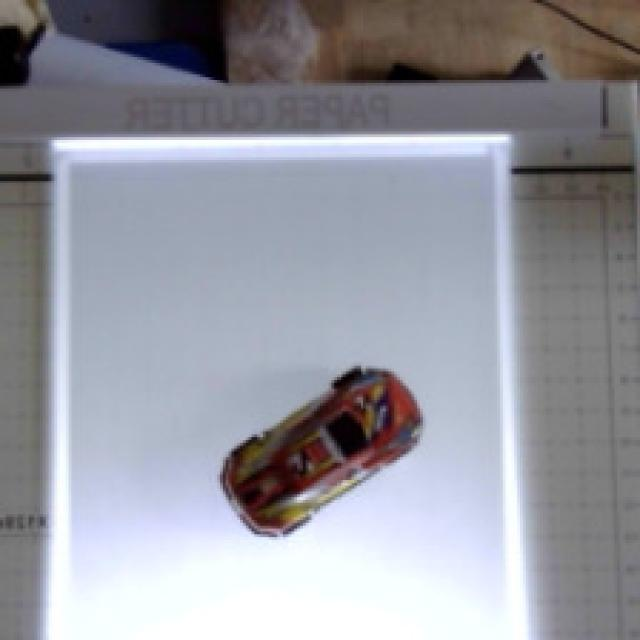Red Car: (167, 324, 463, 569)
